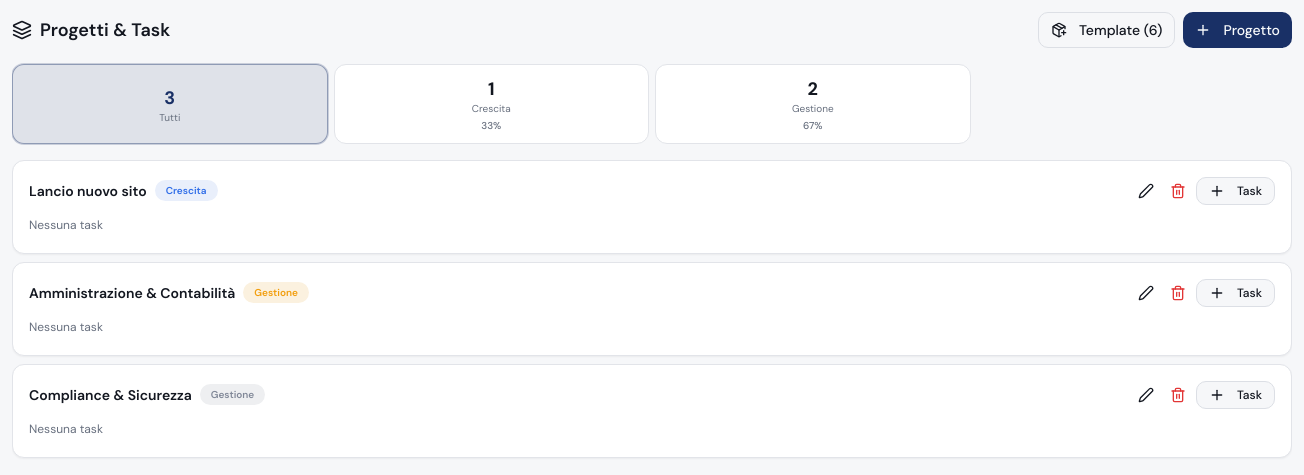
Elenco progetti › unisce operativi e di manutenzione nel conteggio di Gestione
Expected: the 1st text "Gestione" is shown, [792,102,834,115]
Click the button "2 Gestione 67%": (813, 104) [655,64,970,144]
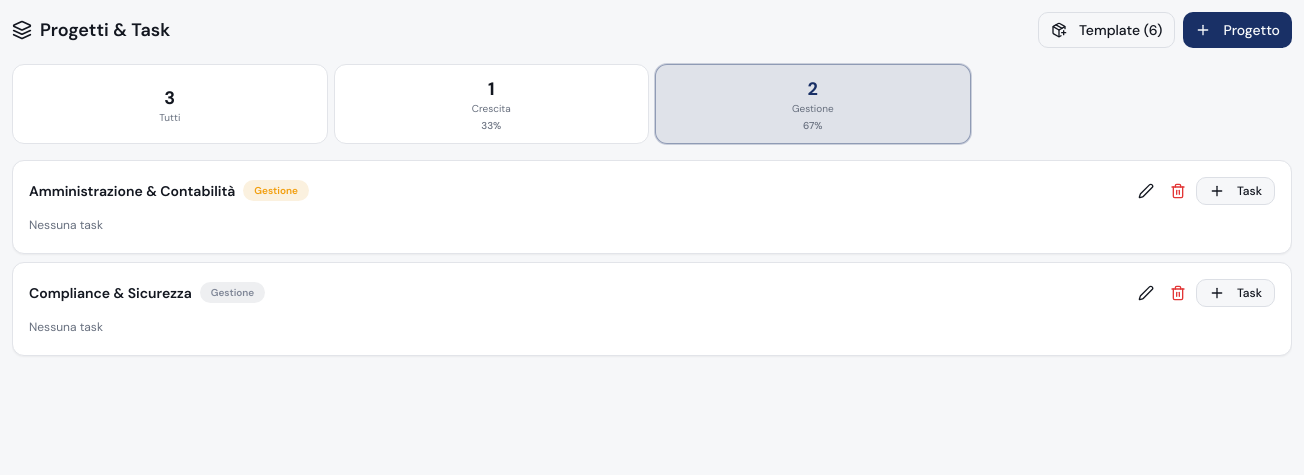
Expected: the heading "Amministrazione & Contabilità" is shown, [29,180,235,200]
Expected: the heading "Lancio nuovo sito" is gone
